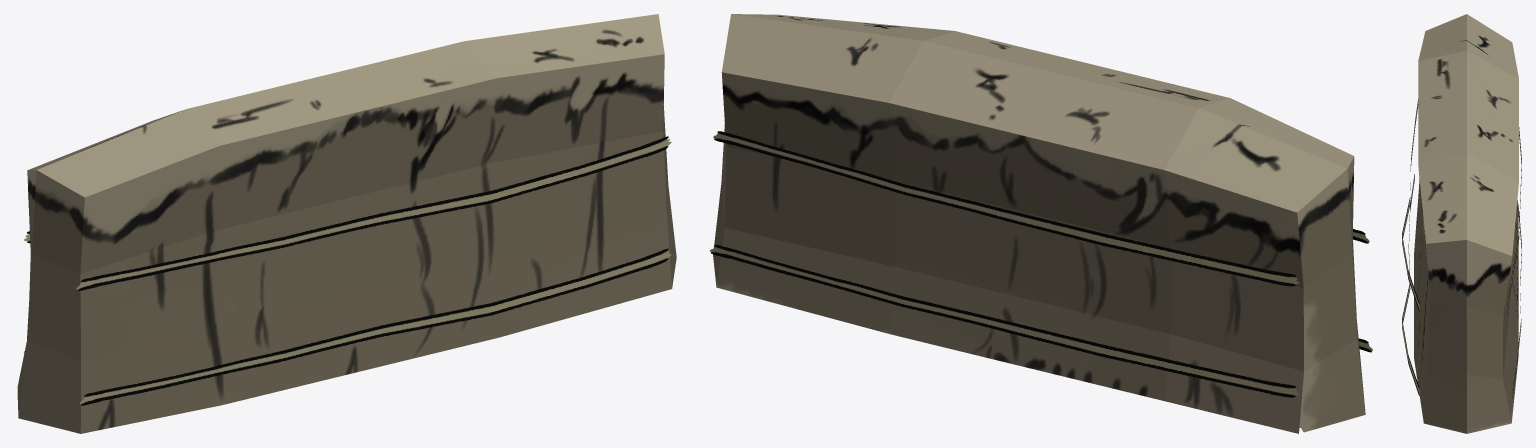
The model's file is RiceWall.fbx.
3 renders of one model, left to right at view 1: azimuth 30°, elevation 25°; view 2: azimuth 150°, elevation 25°; view 3: azimuth 270°, elevation 25°, orthographic. The views are drawn at different scales.
Visible parts, largest first — view 1: Rice_Wall2; view 2: Rice_Wall2; view 3: Rice_Wall2.
Part boxes in pixels (x1,y1,x2,y2): Rice_Wall2: (17,14,676,433); Rice_Wall2: (710,14,1372,433); Rice_Wall2: (1402,14,1521,433).
Bounding box in the file's own units: 5.1 × 2 × 1.07.
